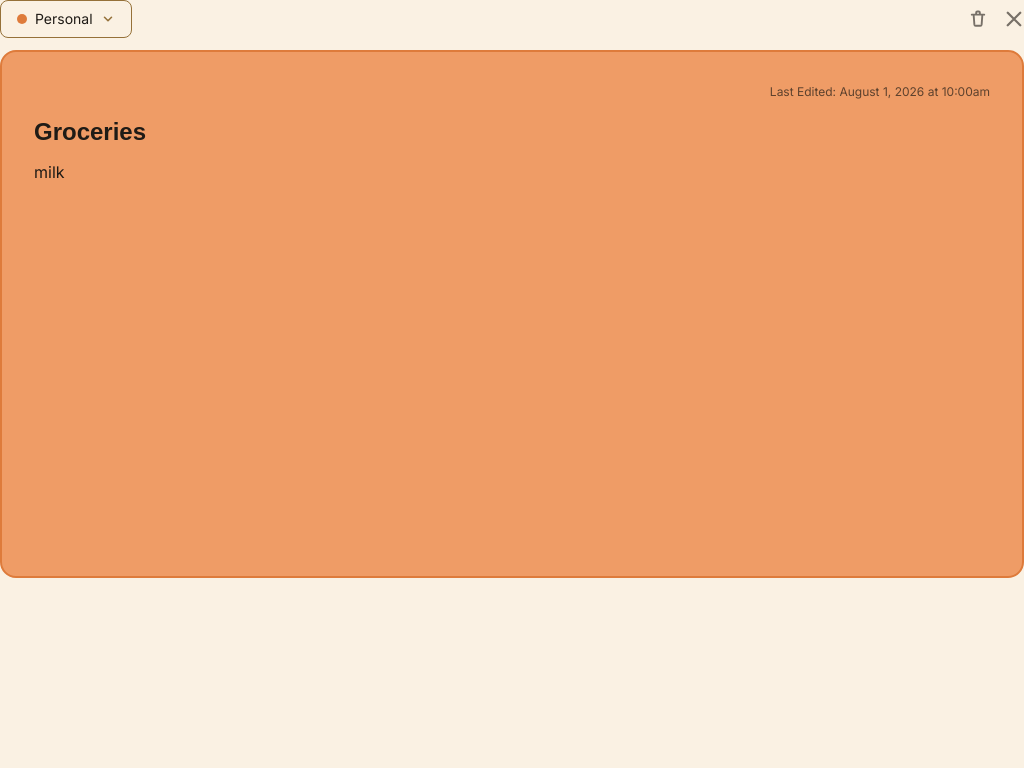
Test: NoteEditor archiving › sends no request when the confirm is declined
What coordinates should you click on to do the following:
click the button named "archive note"
I would click on:
 (978, 19)
Its box is [968, 9, 988, 29].
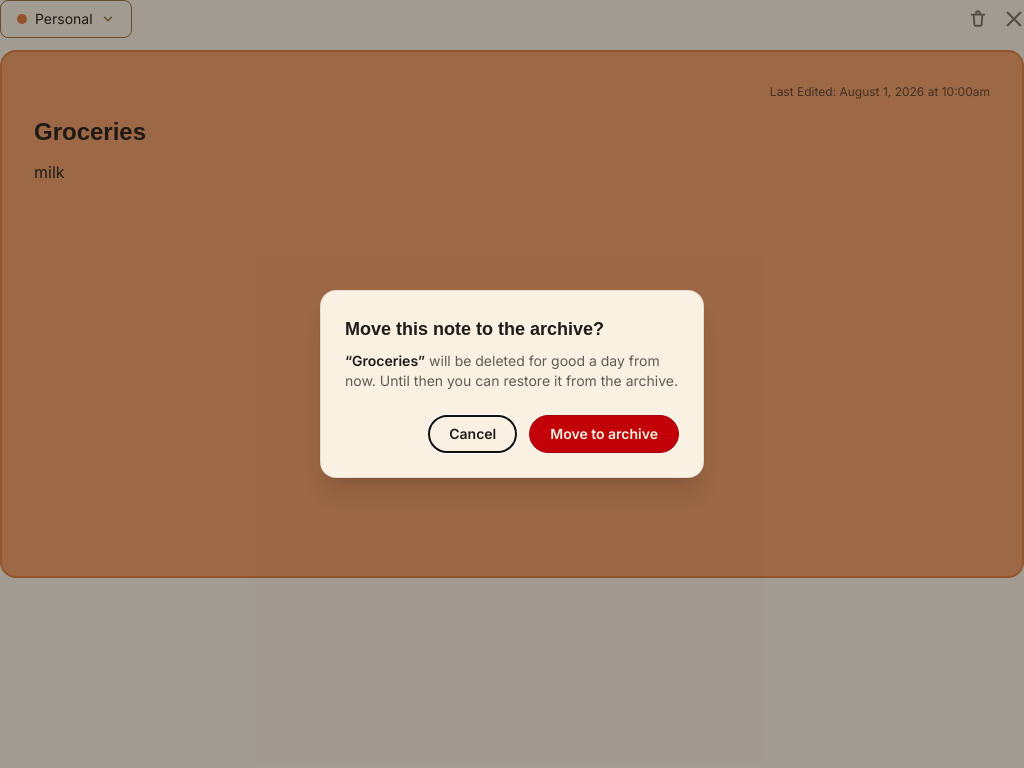
What coordinates should you click on to do the following:
click the button "Cancel"
I would click on:
 (473, 434)
Its box is [428, 415, 517, 453].
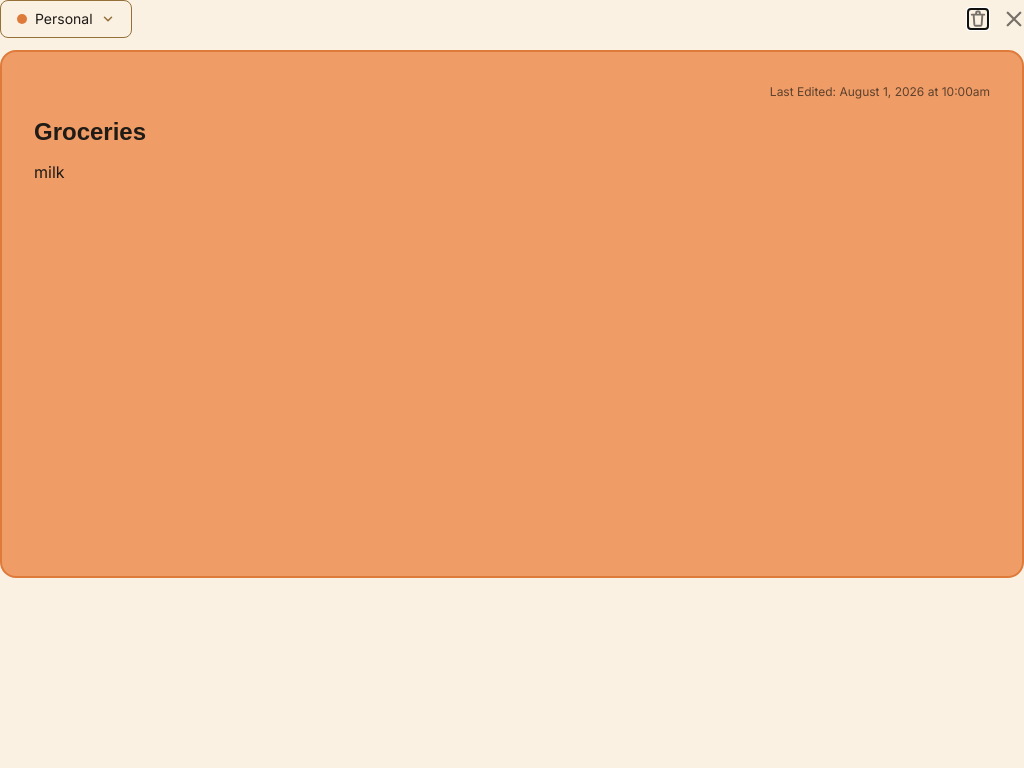
Check: the dialog is gone
